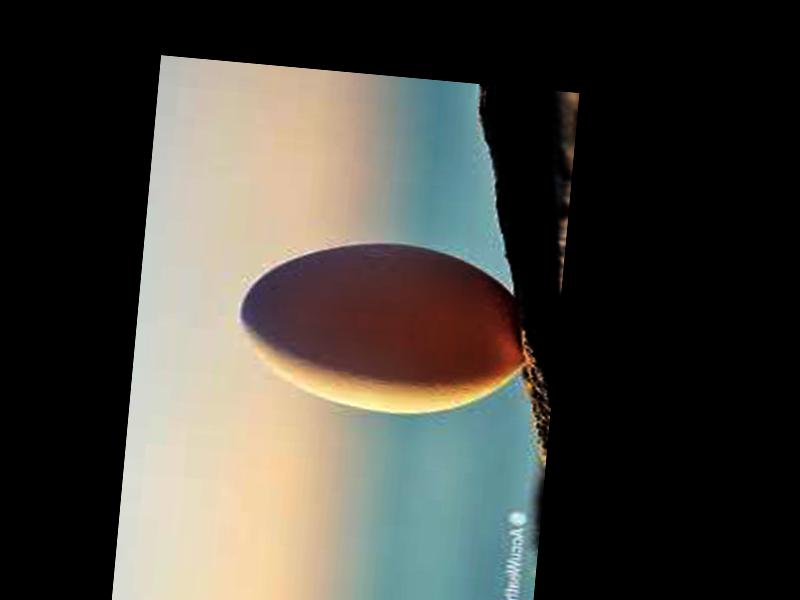Eggs: (230, 230, 529, 424)
